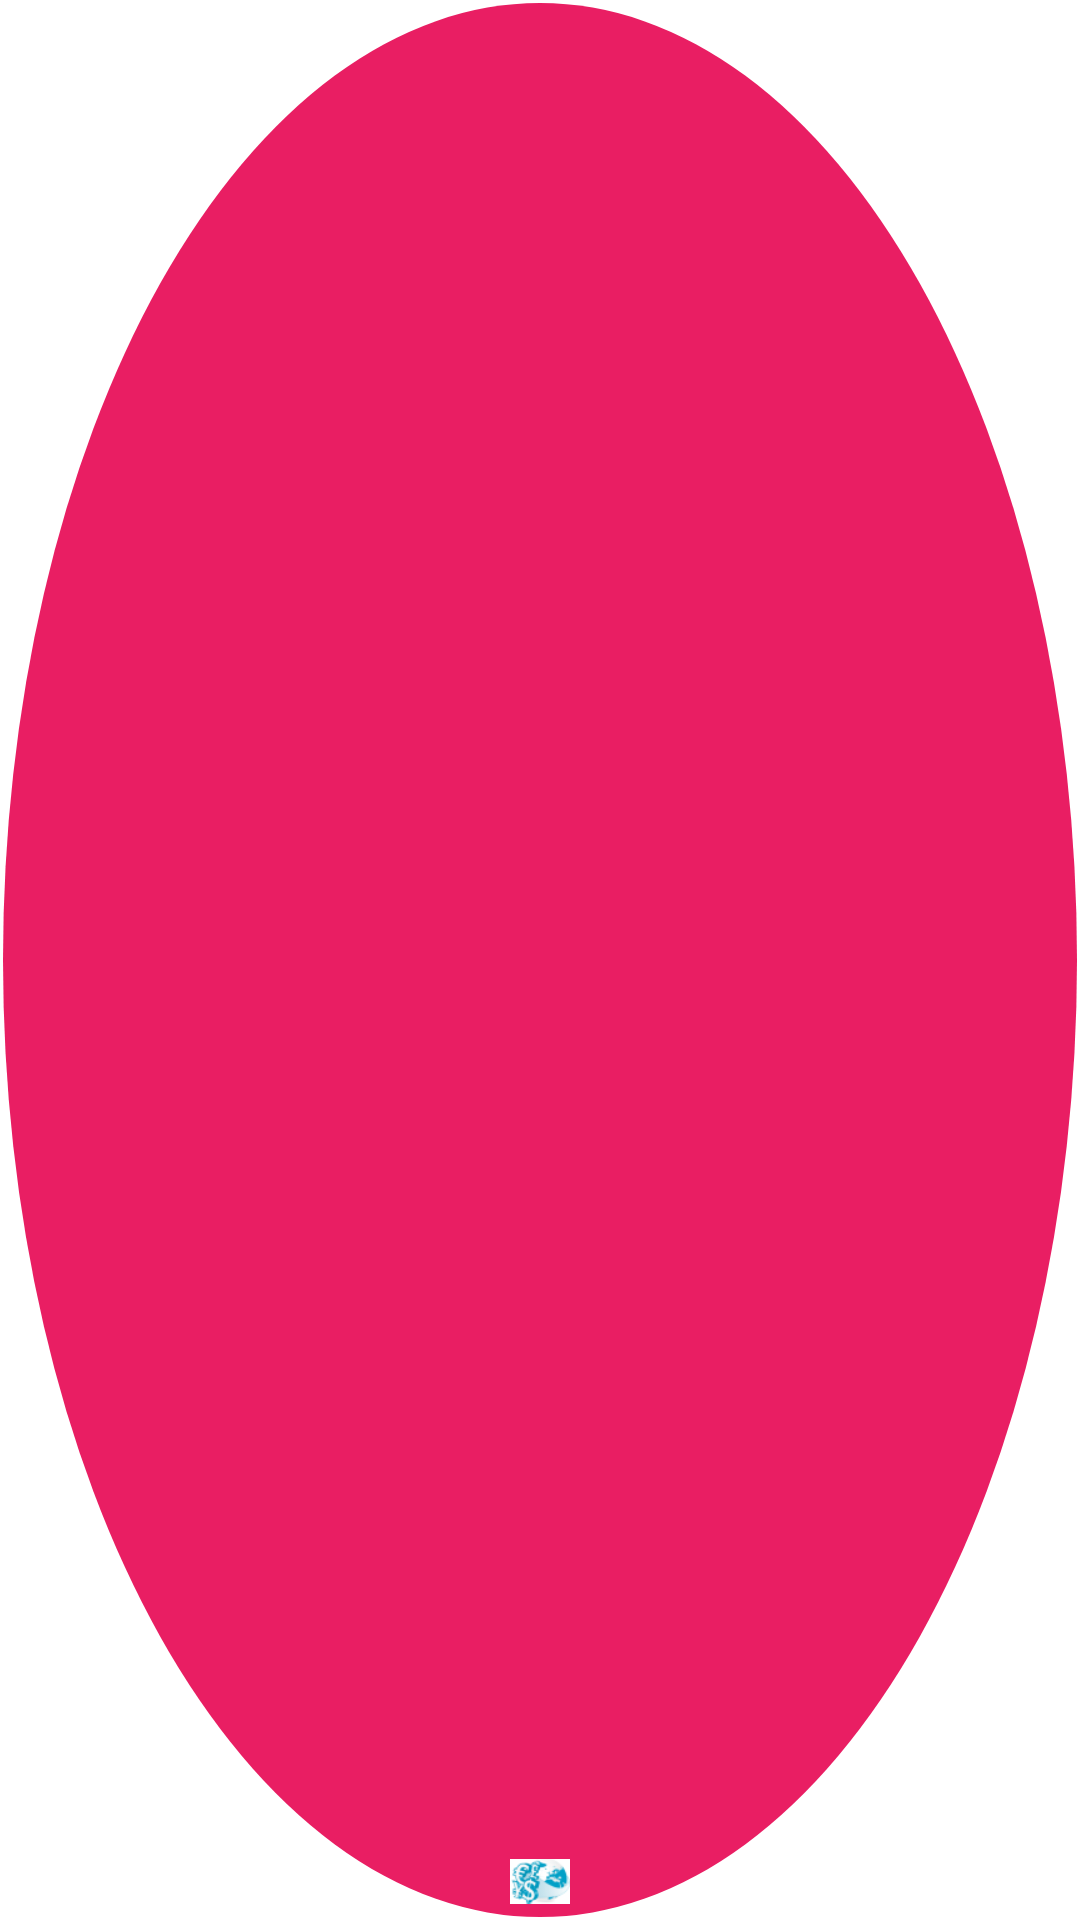

Icons on this 1080px×1920px Android screen, each with the point to tap as (x,y):
currency symbols: (540,1881)
